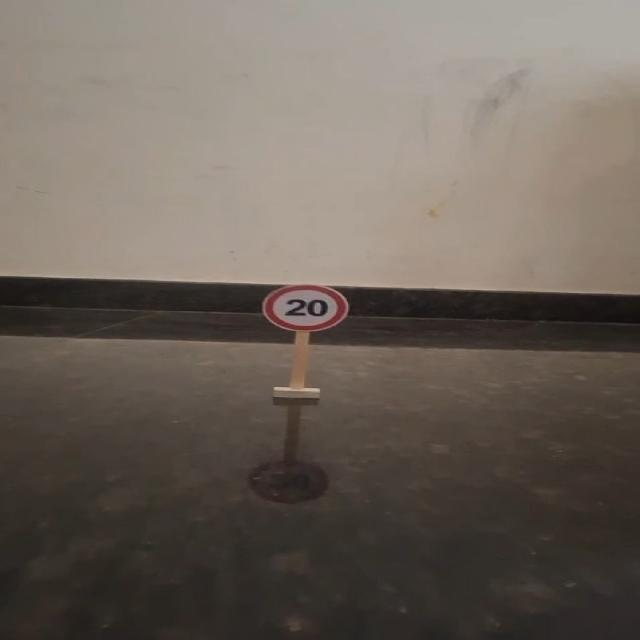Speed20: (255, 278, 355, 336)
